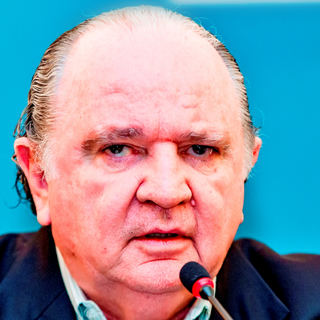eye: (95, 138, 147, 166), (175, 138, 227, 165)
